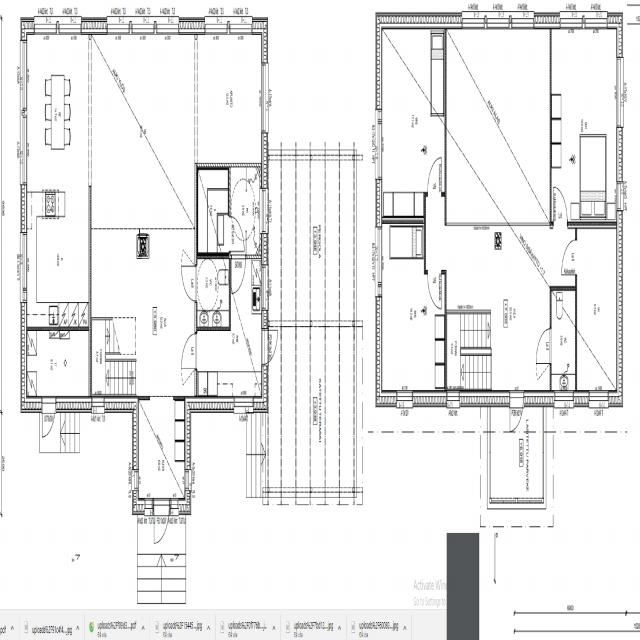door: (154, 499, 169, 552), (42, 396, 56, 446), (510, 390, 524, 440), (262, 329, 281, 364), (181, 266, 197, 302), (536, 328, 552, 364), (228, 217, 244, 251), (181, 334, 197, 368), (428, 158, 442, 196), (554, 188, 567, 228), (562, 240, 577, 274), (428, 270, 441, 308), (232, 255, 245, 292)
